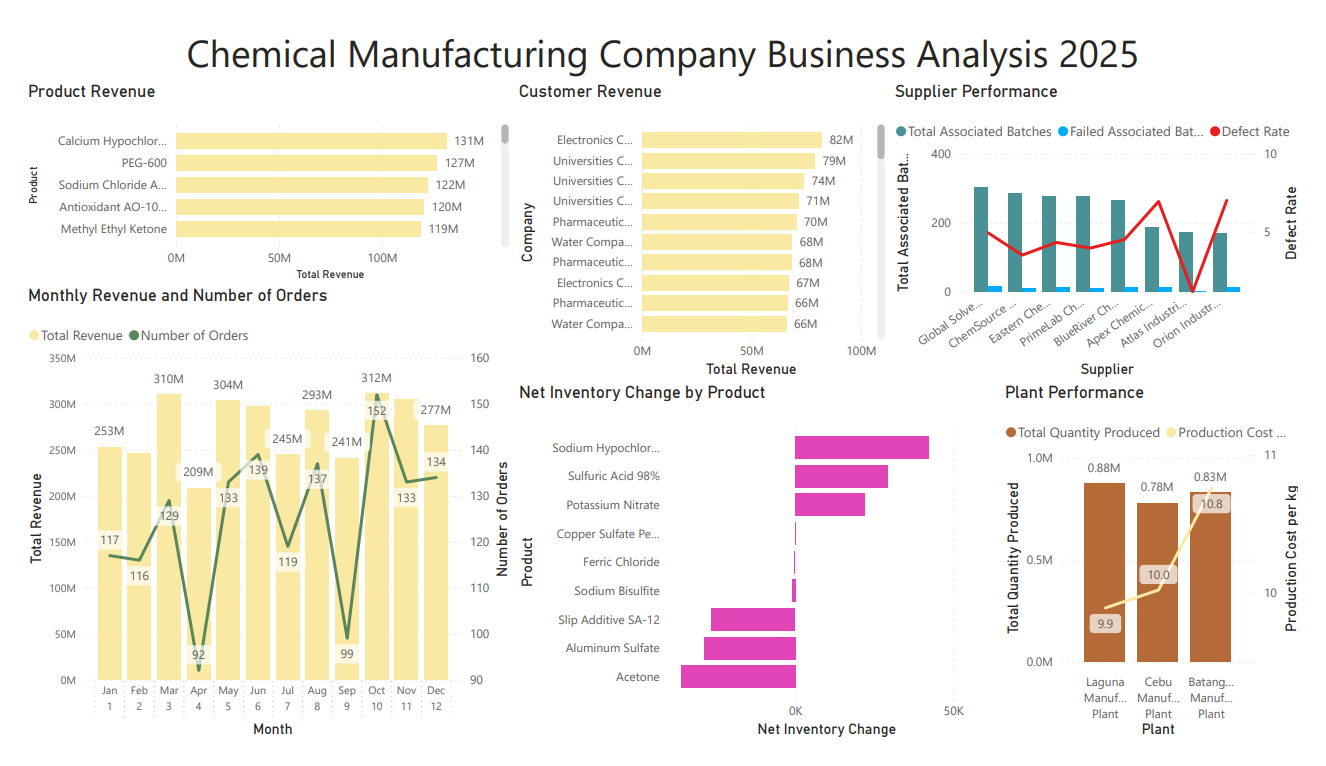

Layout of this report page (visuals, bound fields, positions):
{"tool":"powerbi","page":{"name":"Page 1","canvas":[1280,720],"ordinal":0},"visuals":[{"type":"textbox","box":[0,0,1280,59.3],"z":0},{"type":"clusteredBarChart","title":"Product Revenue","fields":{"Category":["bq1_product_revenue.product_name"],"Y":["Sum(bq1_product_revenue.revenue_per_product)"]},"box":[0,59.3,491.2,203.3],"z":1000},{"type":"clusteredBarChart","title":"Customer Revenue","fields":{"Category":["bq2_customer_revenue.company_name"],"Y":["Sum(bq2_customer_revenue.total_revenue)"]},"box":[491.2,59.3,375.4,300.5],"z":2000},{"type":"lineStackedColumnComboChart","title":"Monthly Revenue and Number of Orders","fields":{"Category":["bq3_monthly_sales.month_orders","bq3_monthly_sales.Month Name"],"Y":["Sum(bq3_monthly_sales.total_revenue)"],"Y2":["Sum(bq3_monthly_sales.number_of_orders)"]},"box":[0,262.6,491.2,457.1],"z":3000},{"type":"lineStackedColumnComboChart","title":"Plant Performance","fields":{"Category":["bq4_plant_efficiency.plant_name"],"Y":["Sum(bq4_plant_efficiency.total_quantity_produced_kg)"],"Y2":["Sum(bq4_plant_efficiency.production_cost_per_kg)"]},"box":[976.5,359.9,303.5,359.9],"z":4000},{"type":"lineClusteredColumnComboChart","title":"Supplier Performance","fields":{"Category":["bq5_supplier_defect_rate.supplier_name"],"Y":["Sum(bq5_supplier_defect_rate.total_associated_batches)","Sum(bq5_supplier_defect_rate.failed_associated_batches)"],"Y2":["Sum(bq5_supplier_defect_rate.defect_rate)"]},"box":[866.6,59.3,413.4,300.5],"z":5000},{"type":"clusteredBarChart","fields":{"Category":["bq6_inventory_movement.product_name"],"Y":["Sum(bq6_inventory_movement.net_inventory_change)"]},"box":[491.2,359.9,485.3,359.9],"z":6000}]}

Visuals, with their boxes in screenshot pixels (x1, y1, x2, y2), scaled from the page's 1280x720 canvas onto the 1326x766 screenshot:
textbox: bbox=(0, 0, 1325, 63)
"Product Revenue" clusteredBarChart: bbox=(0, 63, 509, 279)
"Customer Revenue" clusteredBarChart: bbox=(509, 63, 898, 383)
"Monthly Revenue and Number of Orders" lineStackedColumnComboChart: bbox=(0, 279, 509, 765)
"Plant Performance" lineStackedColumnComboChart: bbox=(1012, 383, 1325, 765)
"Supplier Performance" lineClusteredColumnComboChart: bbox=(898, 63, 1325, 383)
clusteredBarChart - bq6_inventory_movement.product_name x Sum(bq6_inventory_movement.net_inventory_change): bbox=(509, 383, 1012, 765)
